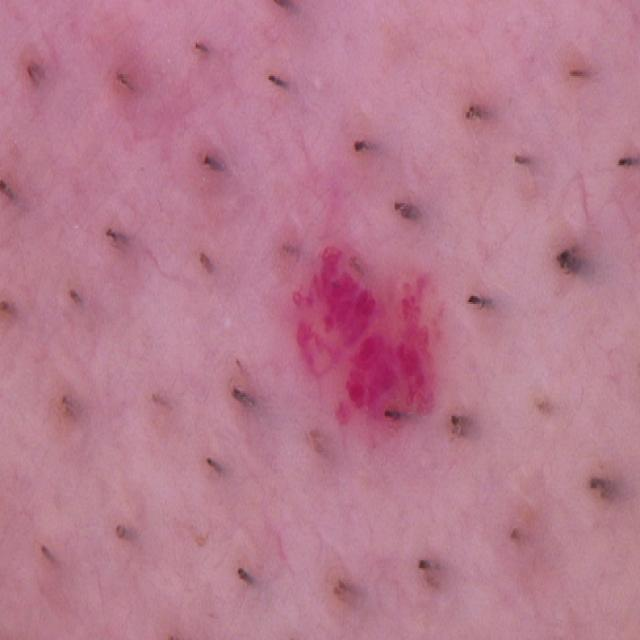Vascular Lesions: (285, 239, 462, 458)
